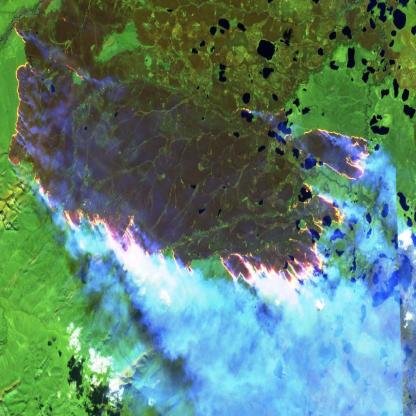fire: (0, 0, 383, 319)
